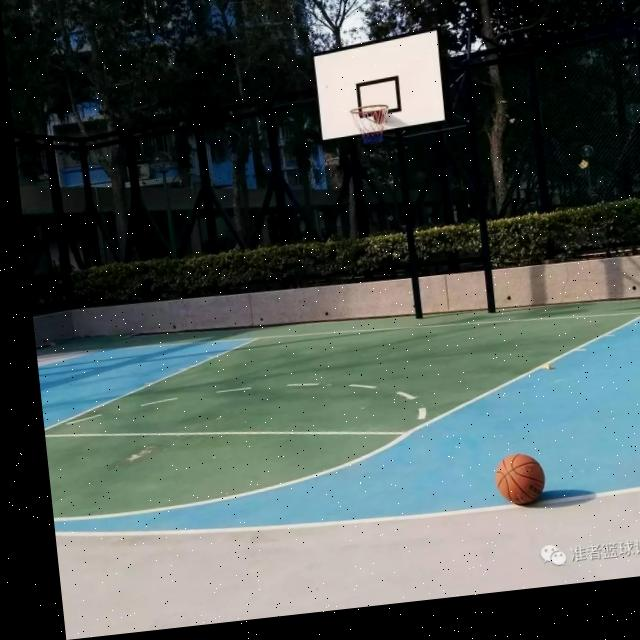basketball: (494, 450, 548, 507)
hoop: (349, 100, 391, 143)
